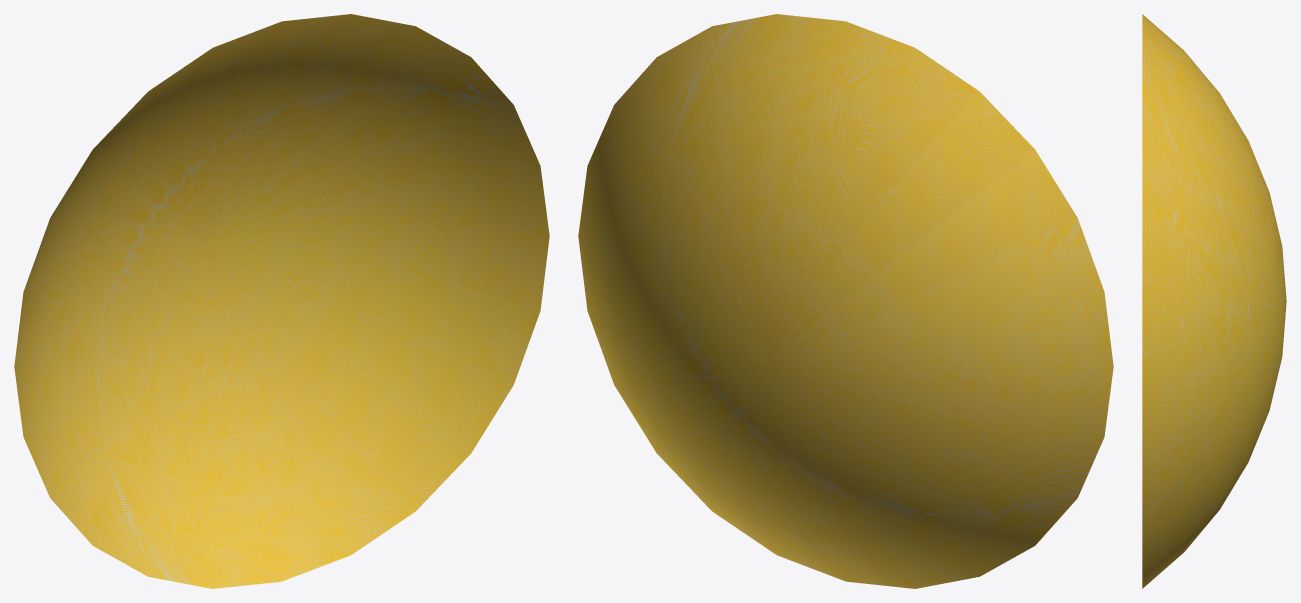
The model's file is original-182.obj.
3 views of the same model, side by side, from view 1: azimuth 30°, elevation 25°; view 2: azimuth 150°, elevation 25°; view 3: azimuth 270°, elevation 25° (orthographic). The views are drawn at different scales.
Parts seen in each view (by area): view 1: Wooden_Plug30/Wooden_Plug/mesh1/mesh1-geometry#mesh1-geometry; view 2: Wooden_Plug30/Wooden_Plug/mesh1/mesh1-geometry#mesh1-geometry; view 3: Wooden_Plug30/Wooden_Plug/mesh1/mesh1-geometry#mesh1-geometry.
Part boxes in pixels (<box>): Wooden_Plug30/Wooden_Plug/mesh1/mesh1-geometry#mesh1-geometry: <box>14,14,549,588</box>; Wooden_Plug30/Wooden_Plug/mesh1/mesh1-geometry#mesh1-geometry: <box>578,14,1113,588</box>; Wooden_Plug30/Wooden_Plug/mesh1/mesh1-geometry#mesh1-geometry: <box>1142,14,1286,588</box>.
Size of the model in its own units: 0.0221 by 0.0221 by 0.00552.
